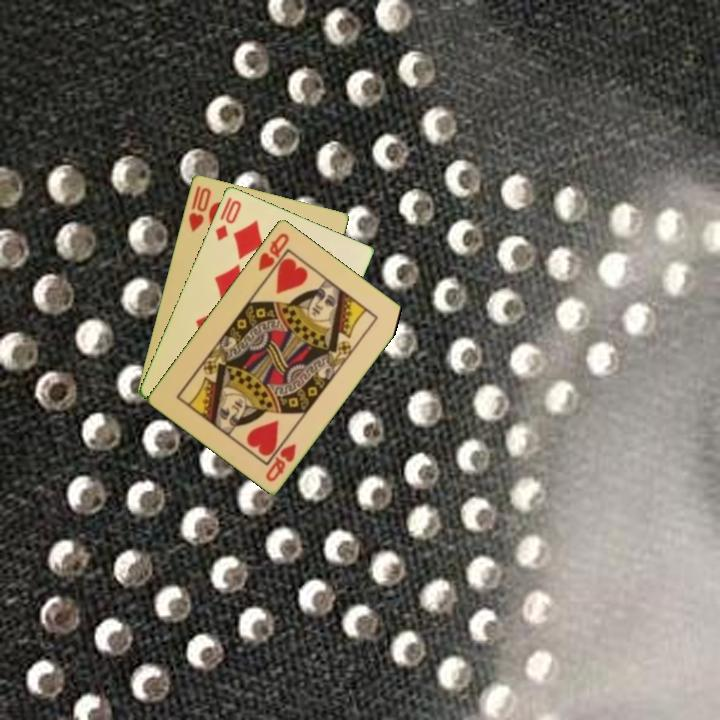10d: (211, 193, 244, 243)
10h: (185, 182, 214, 235)
Qh: (254, 229, 292, 274), (262, 440, 299, 484)
